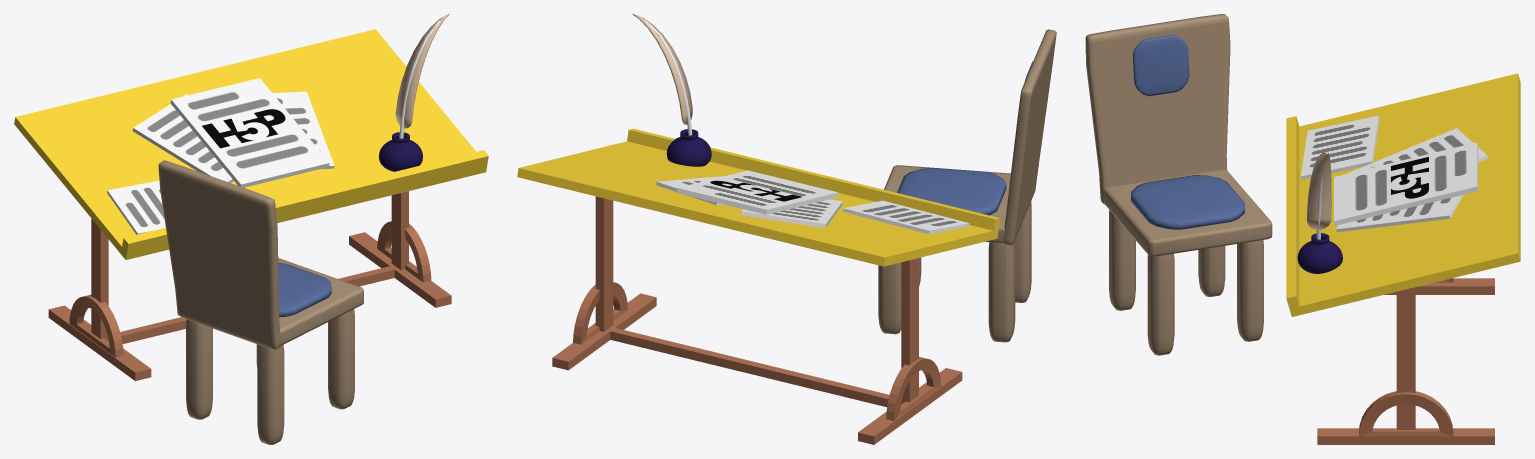
File: l-h5p-Zeichenpult-1.glb
The picture shows the model from 3 angles, left to right: view 1: azimuth 30°, elevation 25°; view 2: azimuth 150°, elevation 25°; view 3: azimuth 270°, elevation 25°; orthographic projection. The views are drawn at different scales.
Visible parts, largest first — view 1: Cube.020; view 2: Cube.020; view 3: Cube.020.
Boxes of the visible parts, <box> form: Cube.020: <box>14,14,488,444</box>; Cube.020: <box>517,14,1056,444</box>; Cube.020: <box>1085,14,1520,444</box>.
Size of the model in its own units: 1.44 by 1.09 by 1.47.
11 materials, 2 textured.
